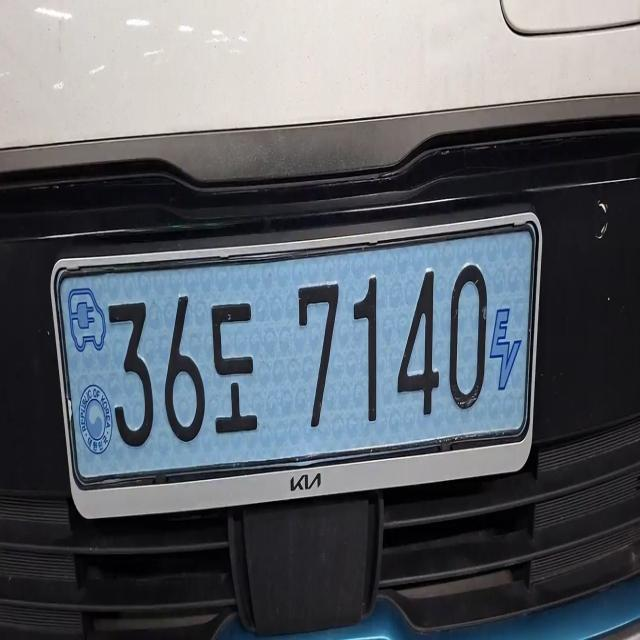car: (53, 222, 539, 486)
carev: (59, 284, 114, 477), (483, 237, 526, 423)
